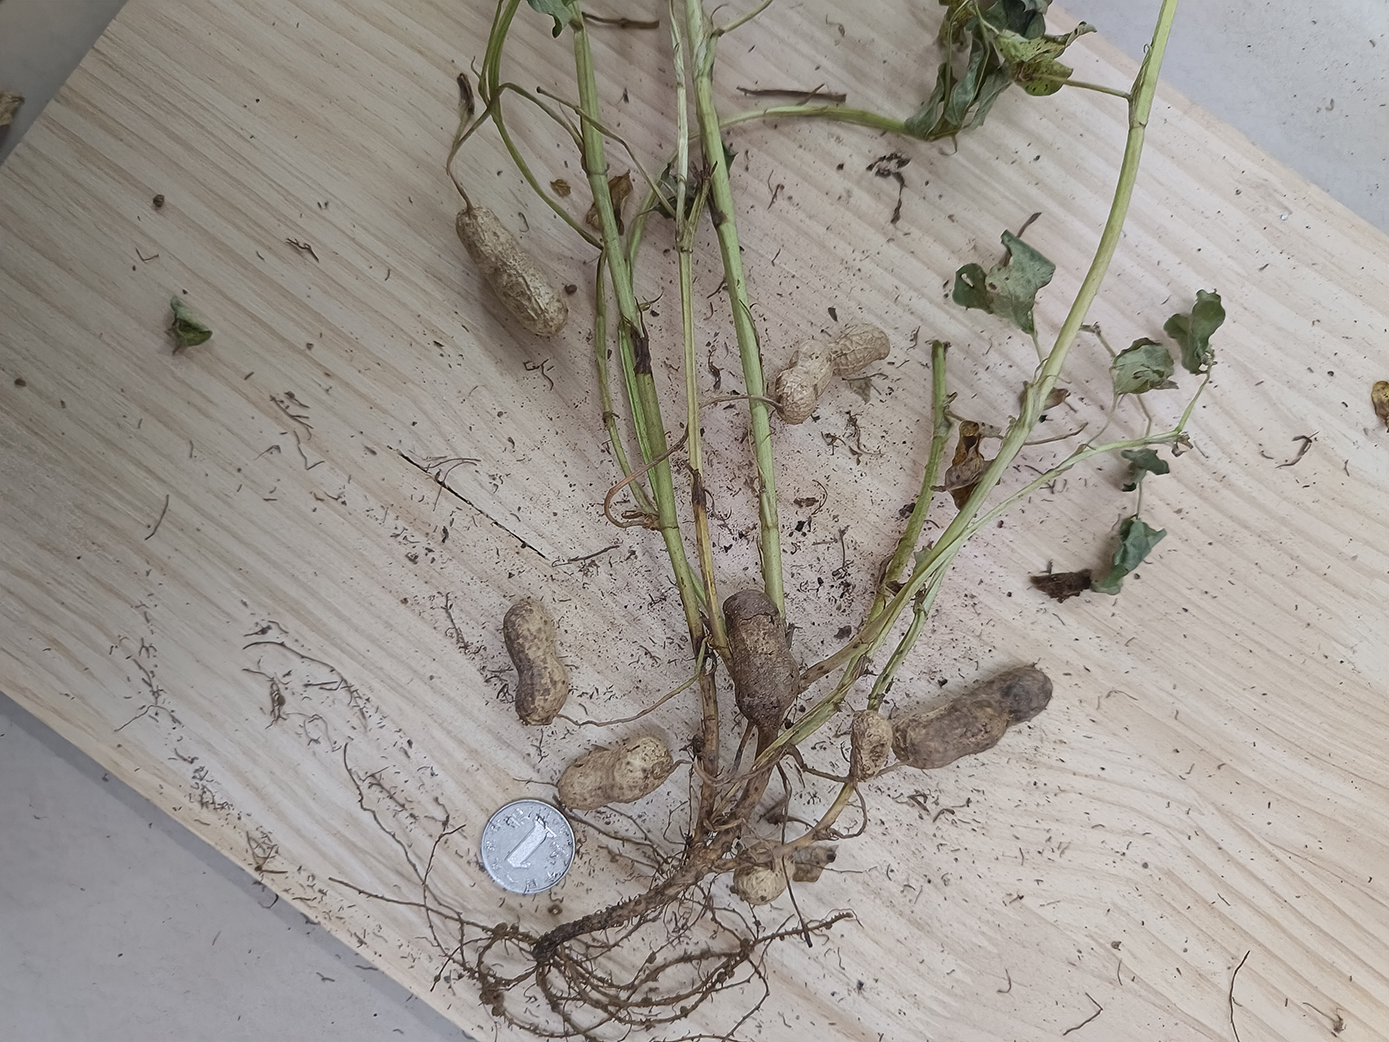h: (458, 206, 570, 334), (775, 325, 890, 424), (556, 737, 673, 813), (503, 599, 569, 729), (739, 846, 792, 901)
l: (890, 665, 1054, 771), (724, 590, 800, 726), (848, 713, 890, 778)
